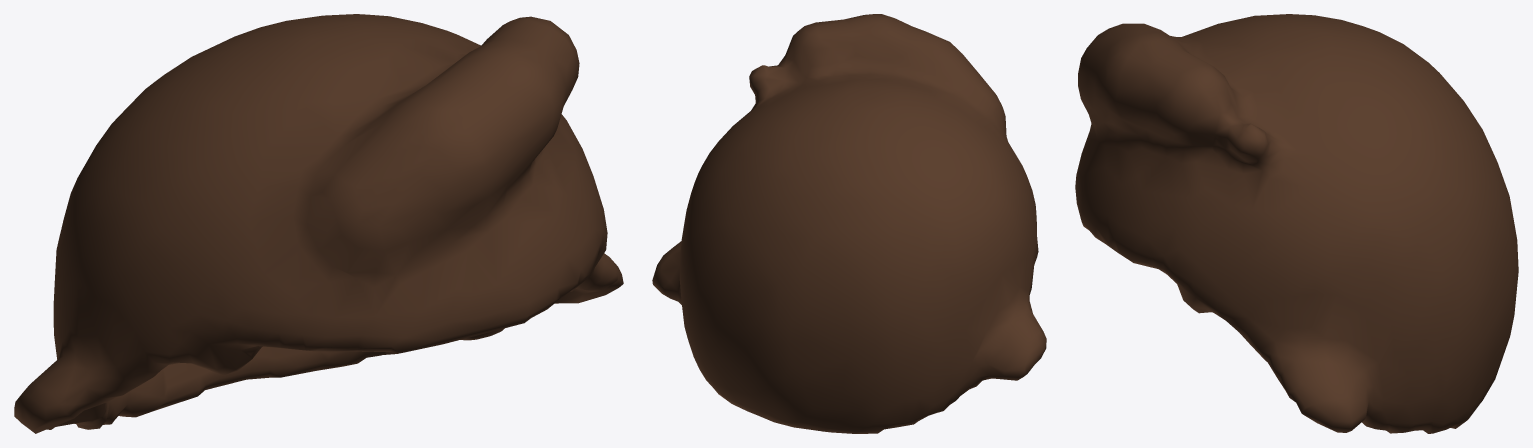
File: hair_swoop_brown.glb
3 views of the same model, side by side, from view 1: azimuth 30°, elevation 25°; view 2: azimuth 150°, elevation 25°; view 3: azimuth 270°, elevation 25° (orthographic). The views are drawn at different scales.
Visible parts, largest first — view 1: HairSwoop.001; view 2: HairSwoop.001; view 3: HairSwoop.001.
Part boxes in pixels (bbox=[...]): HairSwoop.001: bbox=[14, 14, 623, 433]; HairSwoop.001: bbox=[652, 14, 1046, 433]; HairSwoop.001: bbox=[1075, 14, 1518, 433].
Size of the model in its own units: 0.3632 by 0.2738 by 0.2919.
